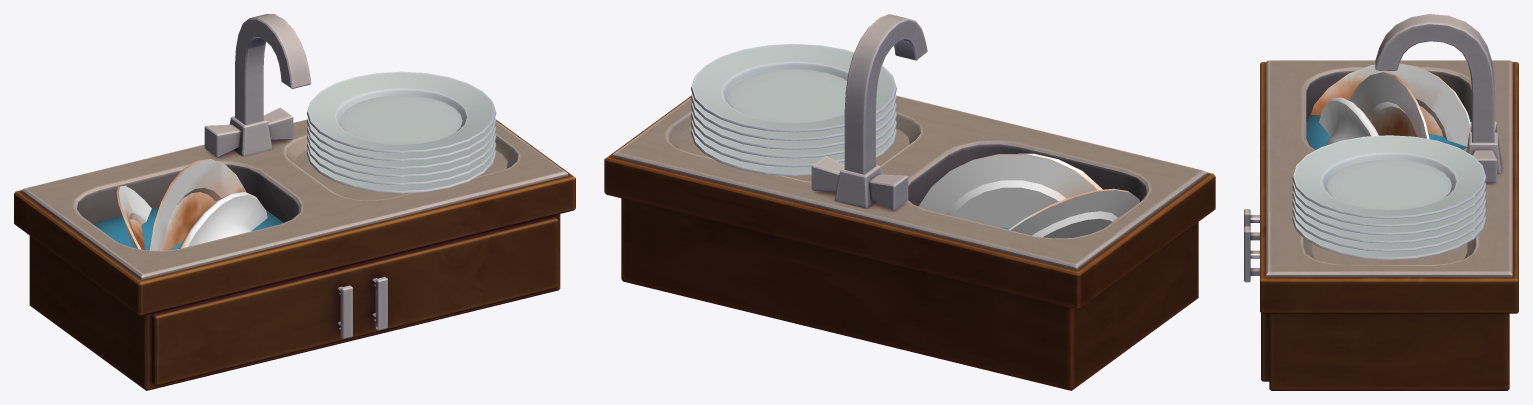
The model's file is washSink.glb.
3 renders of one model, left to right at view 1: azimuth 30°, elevation 25°; view 2: azimuth 150°, elevation 25°; view 3: azimuth 270°, elevation 25°, orthographic. The views are drawn at different scales.
Visible parts, largest first — view 1: washSink, group6, dirtyPlate1, dirtyPlate2, group1, group2, group4, group3, group5, water, dirtyPlate3; view 2: washSink, group6, dirtyPlate1, dirtyPlate3, group3, group4, group5, group2, group1; view 3: washSink, group6, dirtyPlate3, dirtyPlate1, dirtyPlate2, group2, group5, group1, group3, group4, water.
Part boxes in pixels (x1,y1,x2,y2): washSink: (14, 14, 575, 390); group6: (307, 71, 496, 153); dirtyPlate1: (150, 159, 245, 250); dirtyPlate2: (179, 192, 267, 248); group1: (307, 149, 496, 193); group2: (307, 141, 496, 185); group4: (307, 125, 496, 169); group3: (307, 133, 496, 177); group5: (307, 117, 496, 161); water: (93, 206, 283, 250); dirtyPlate3: (116, 185, 151, 250); washSink: (604, 14, 1215, 390); group6: (691, 43, 896, 132); dirtyPlate1: (918, 154, 1096, 227); dirtyPlate3: (1008, 188, 1139, 238); group3: (691, 111, 896, 158); group4: (691, 102, 896, 149); group5: (691, 94, 896, 140); group2: (691, 120, 896, 167); group1: (691, 128, 896, 175); washSink: (1244, 14, 1518, 390); group6: (1292, 135, 1486, 218); dirtyPlate3: (1311, 63, 1470, 146); dirtyPlate1: (1349, 72, 1429, 138); dirtyPlate2: (1319, 97, 1378, 145); group2: (1292, 207, 1486, 251); group5: (1292, 182, 1486, 226); group1: (1292, 215, 1486, 259); group3: (1292, 199, 1486, 243); group4: (1292, 190, 1486, 235); water: (1306, 114, 1471, 149).
Size of the model in its own units: 4 by 2.3 by 2.12.
4 materials, 4 textured.
